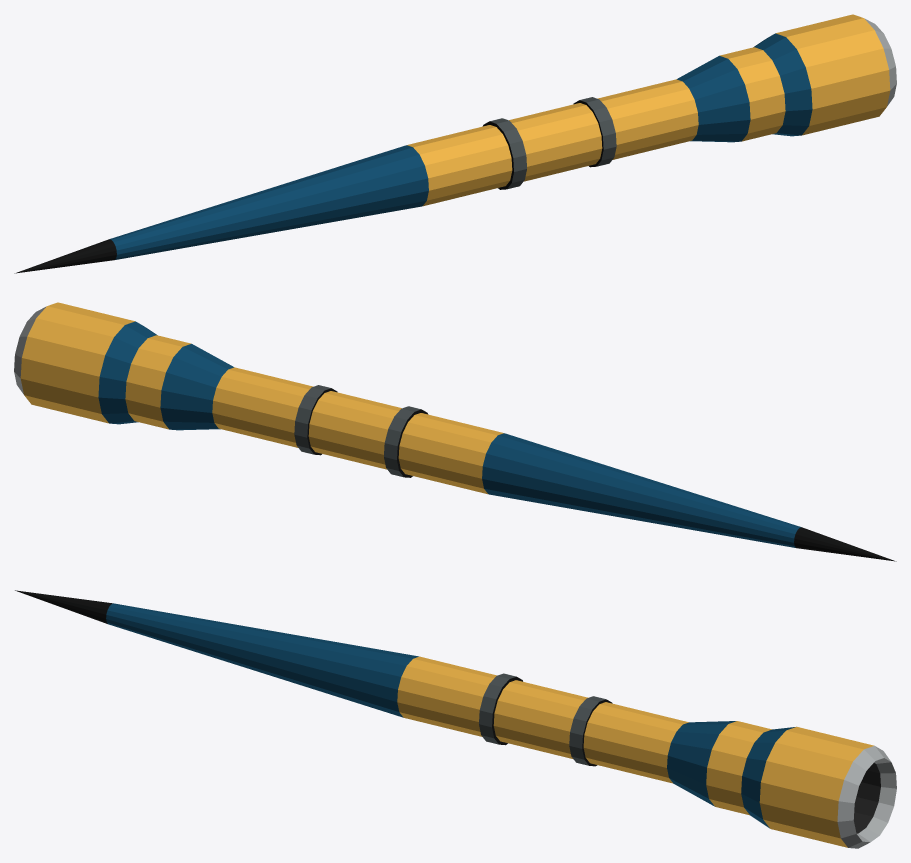
The model's file is CombatRocket 1.fbx.
3 renders of one model, top to bottom at view 1: azimuth 30°, elevation 25°; view 2: azimuth 150°, elevation 25°; view 3: azimuth 330°, elevation 25°, orthographic.
Parts seen in each view (by area): view 1: Cylinder; view 2: Cylinder; view 3: Cylinder.
Part boxes in pixels (box(x1,y1,x2,y2)): Cylinder: box(14, 14, 896, 273); Cylinder: box(14, 302, 896, 561); Cylinder: box(15, 590, 896, 848).
Bounding box in the file's own units: 954 × 101 × 101.
